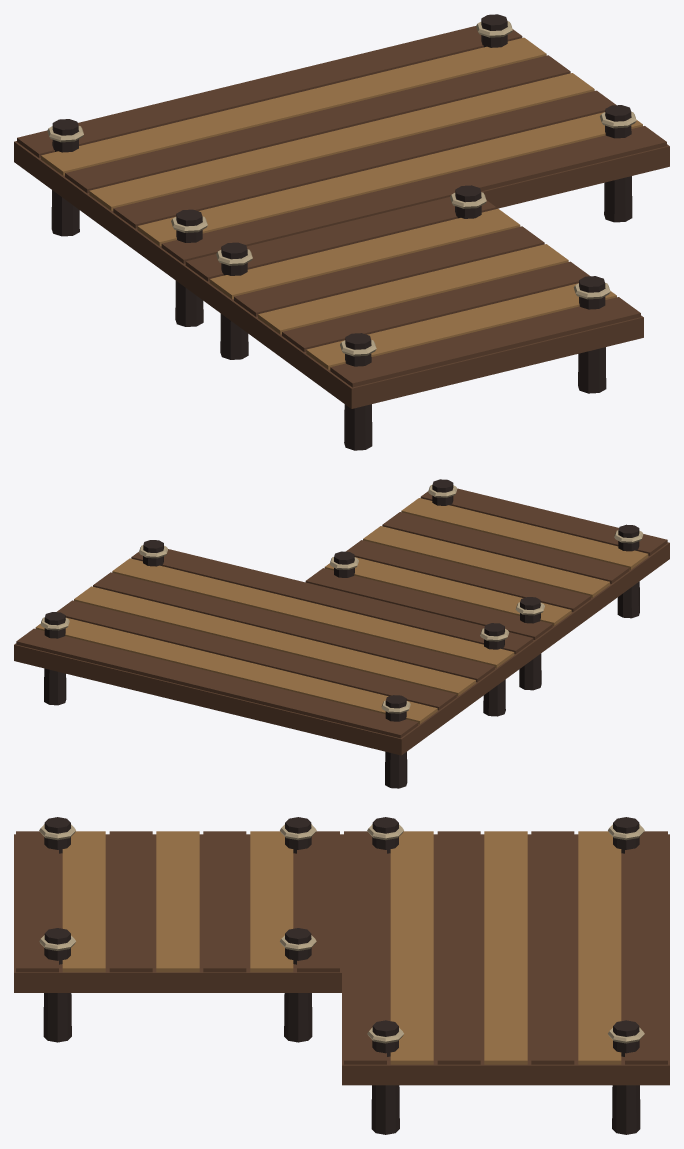
The model's file is PirateCove_DockCorner_Standard.glb.
The picture shows the model from 3 angles, top to bottom: view 1: azimuth 30°, elevation 25°; view 2: azimuth 150°, elevation 25°; view 3: azimuth 270°, elevation 25°; orthographic projection. The views are drawn at different scales.
Visible parts, largest first — view 1: PirateCove_DockCorner_Standard; view 2: PirateCove_DockCorner_Standard; view 3: PirateCove_DockCorner_Standard.
Part boxes in pixels (left/top/right/bottom): PirateCove_DockCorner_Standard: left=14, top=14, right=669, bottom=450; PirateCove_DockCorner_Standard: left=14, top=479, right=669, bottom=788; PirateCove_DockCorner_Standard: left=14, top=817, right=669, bottom=1134.
Bounding box in the file's own units: 5 × 1.04 × 6.
